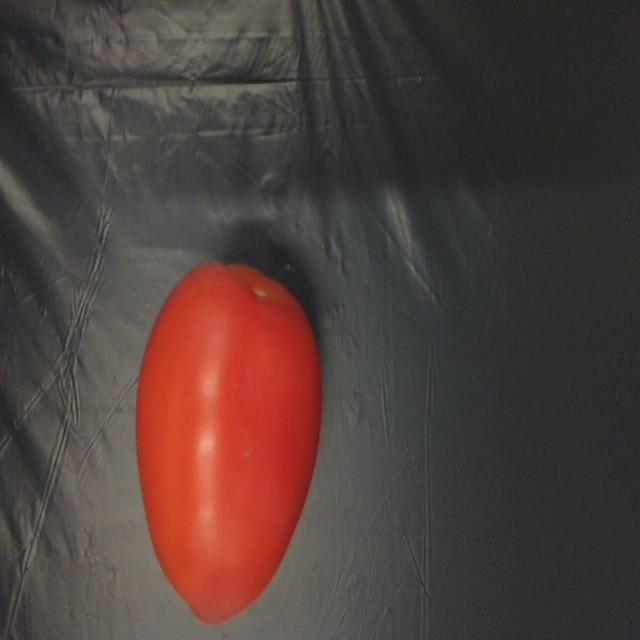kirmizi: (125, 245, 327, 640)
